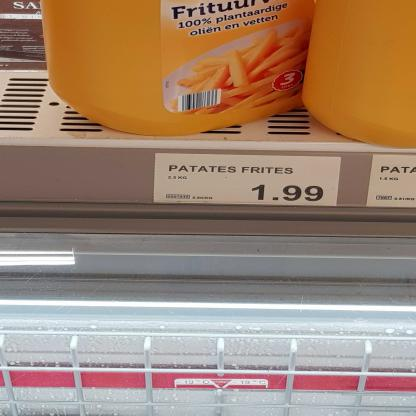prtg: (154, 153, 343, 207), (367, 155, 416, 209)
